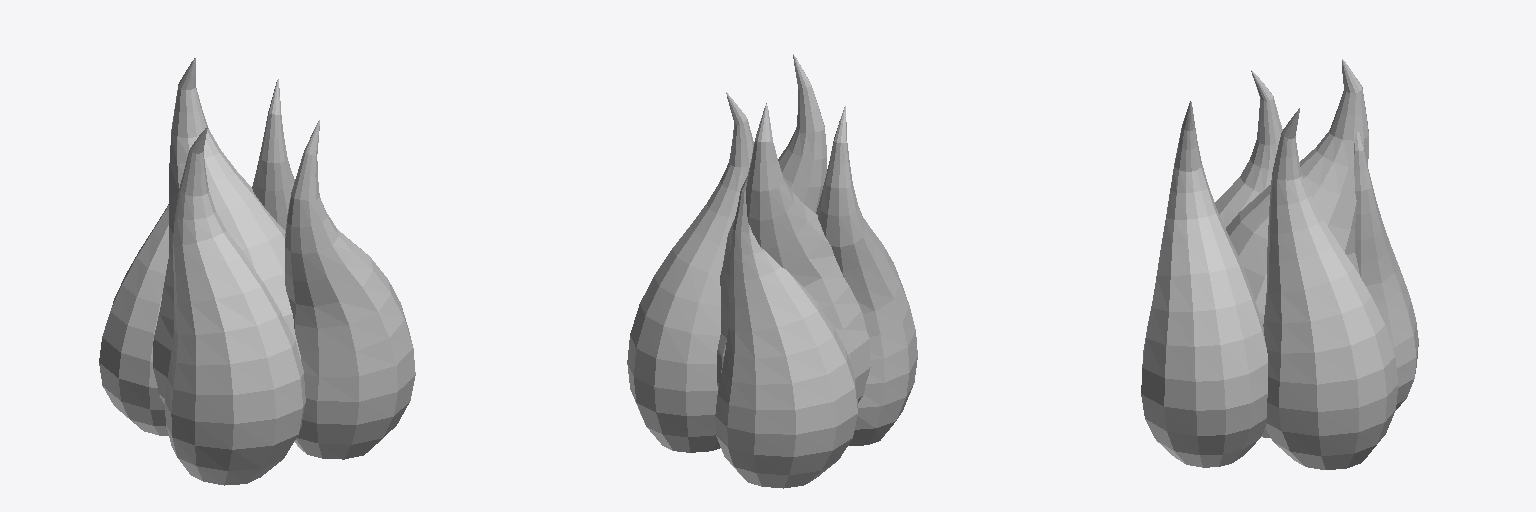
File: fire_000069.obj
3 renders of one model, left to right at view 1: azimuth 30°, elevation 25°; view 2: azimuth 150°, elevation 25°; view 3: azimuth 270°, elevation 25°, orthographic.
Visible parts, largest first — view 1: flame_NurbsPath.015; view 2: flame_NurbsPath.015; view 3: flame_NurbsPath.015.
Boxes of the visible parts, x1=… form: flame_NurbsPath.015: x1=99, y1=58, x2=415, y2=485; flame_NurbsPath.015: x1=627, y1=54, x2=917, y2=488; flame_NurbsPath.015: x1=1141, y1=59, x2=1418, y2=469.
Size of the model in its own units: 0.7556 by 1.16 by 0.7988.